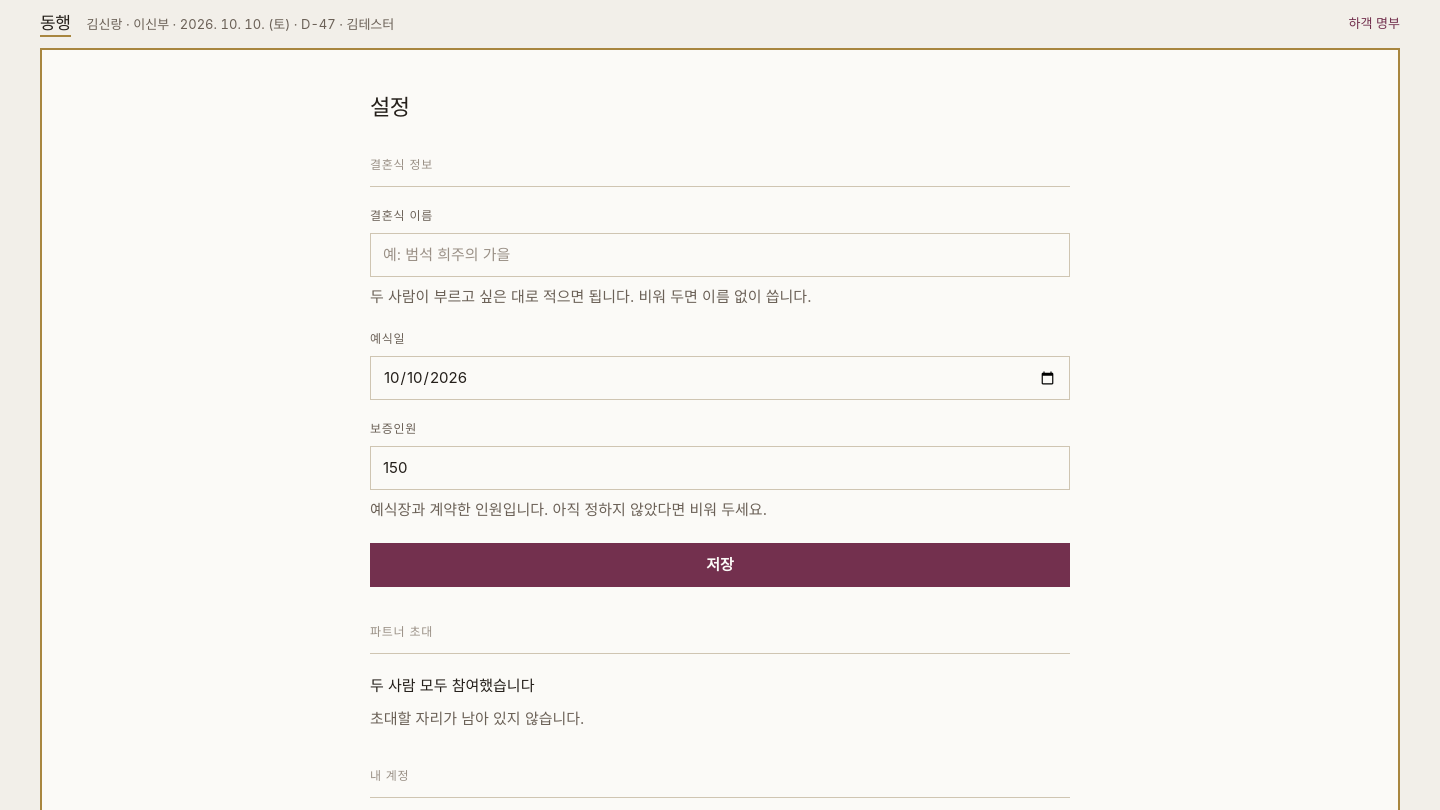
Test: clears 보증인원 with null when the couple empties the field, never with ""
Clear the field labelled "보증인원": (720, 468) [370, 446, 1070, 490]
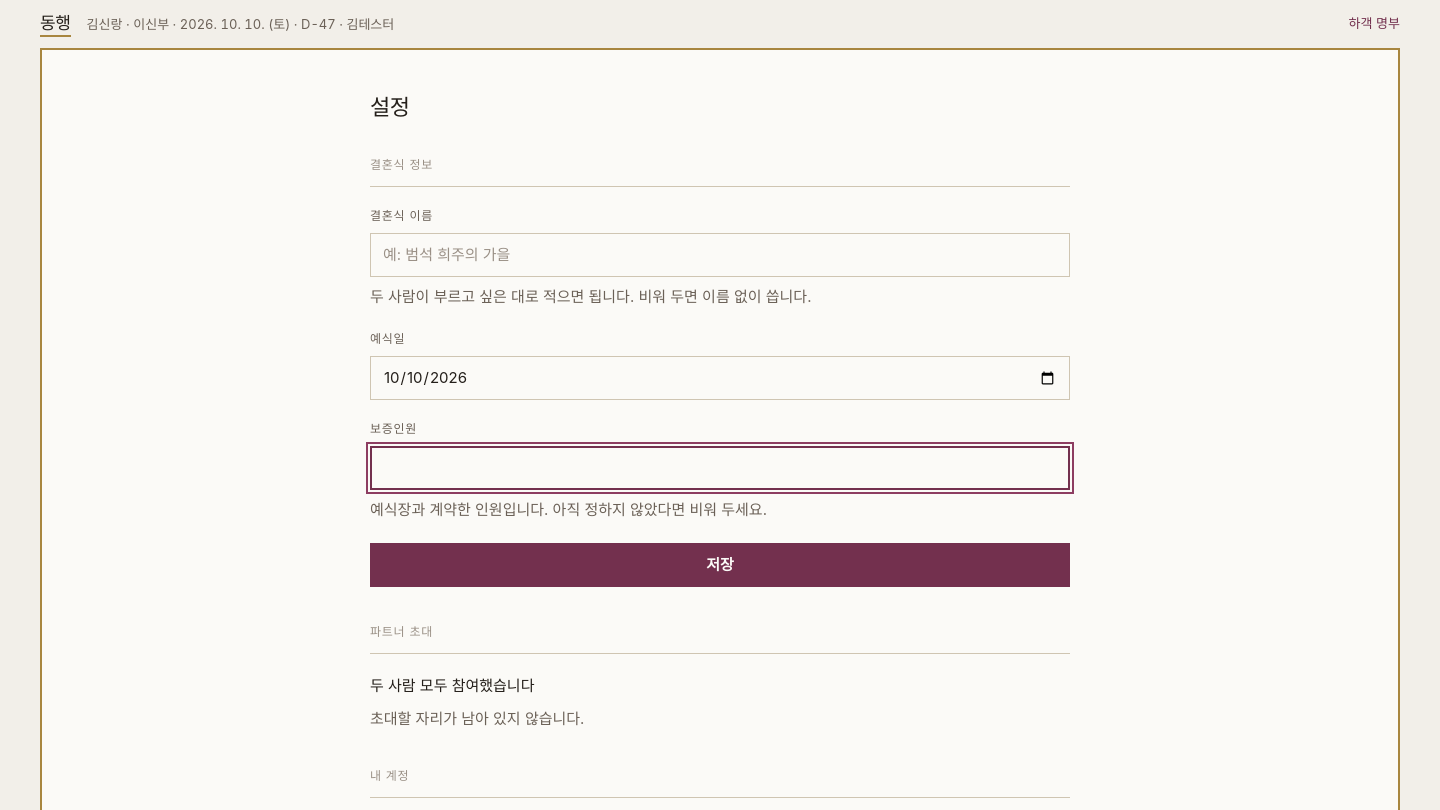
Click the button "저장": click(720, 565) [370, 543, 1070, 587]
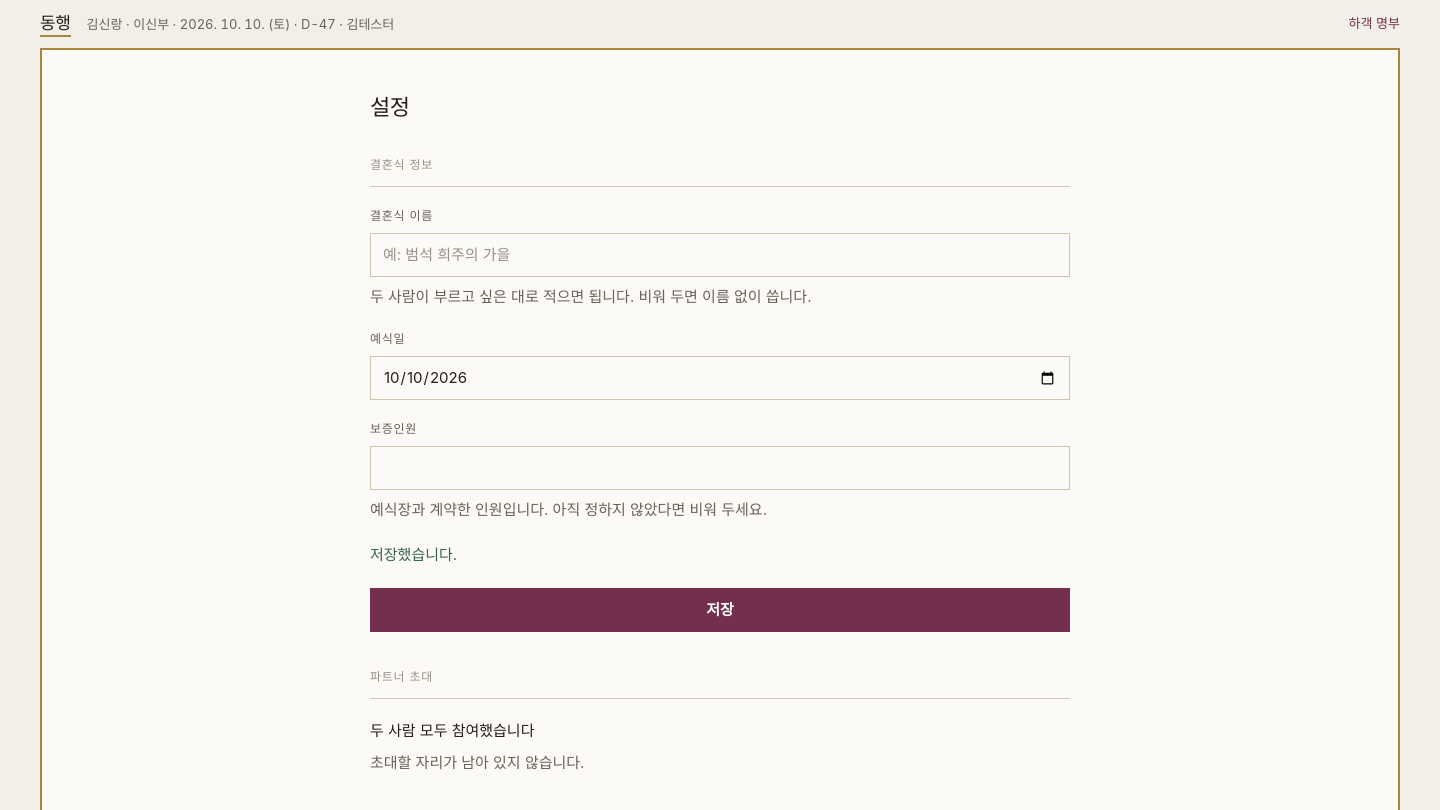
Expected: the text "저장했습니다." is shown, [370, 545, 457, 564]
